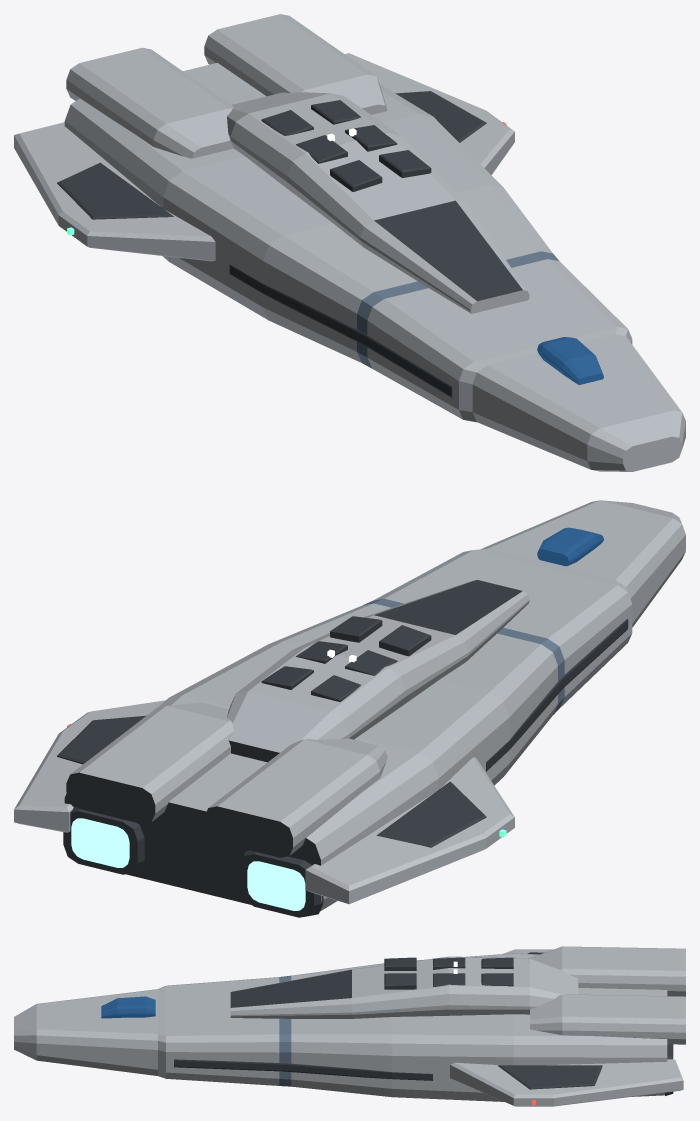
File: federal-corvette.glb
3 renders of one model, top to bottom at view 1: azimuth 30°, elevation 25°; view 2: azimuth 150°, elevation 25°; view 3: azimuth 270°, elevation 25°, orthographic. The views are drawn at different scales.
Parts seen in each view (by area): view 1: federal-corvette; view 2: federal-corvette; view 3: federal-corvette.
Boxes of the visible parts, x1,y1,x2,y2 form: federal-corvette: [14, 14, 685, 471]; federal-corvette: [14, 500, 685, 917]; federal-corvette: [14, 946, 685, 1106].
Bounding box in the file's own units: 88.6 × 30.29 × 166.
